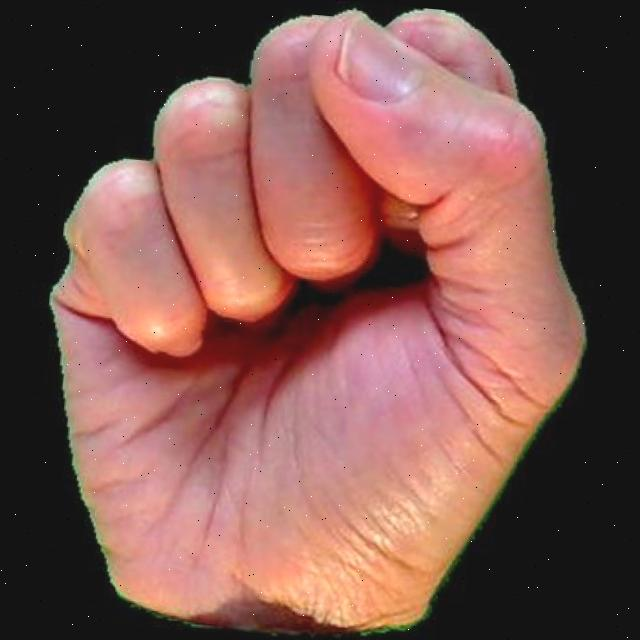s: (0, 0, 614, 640)
